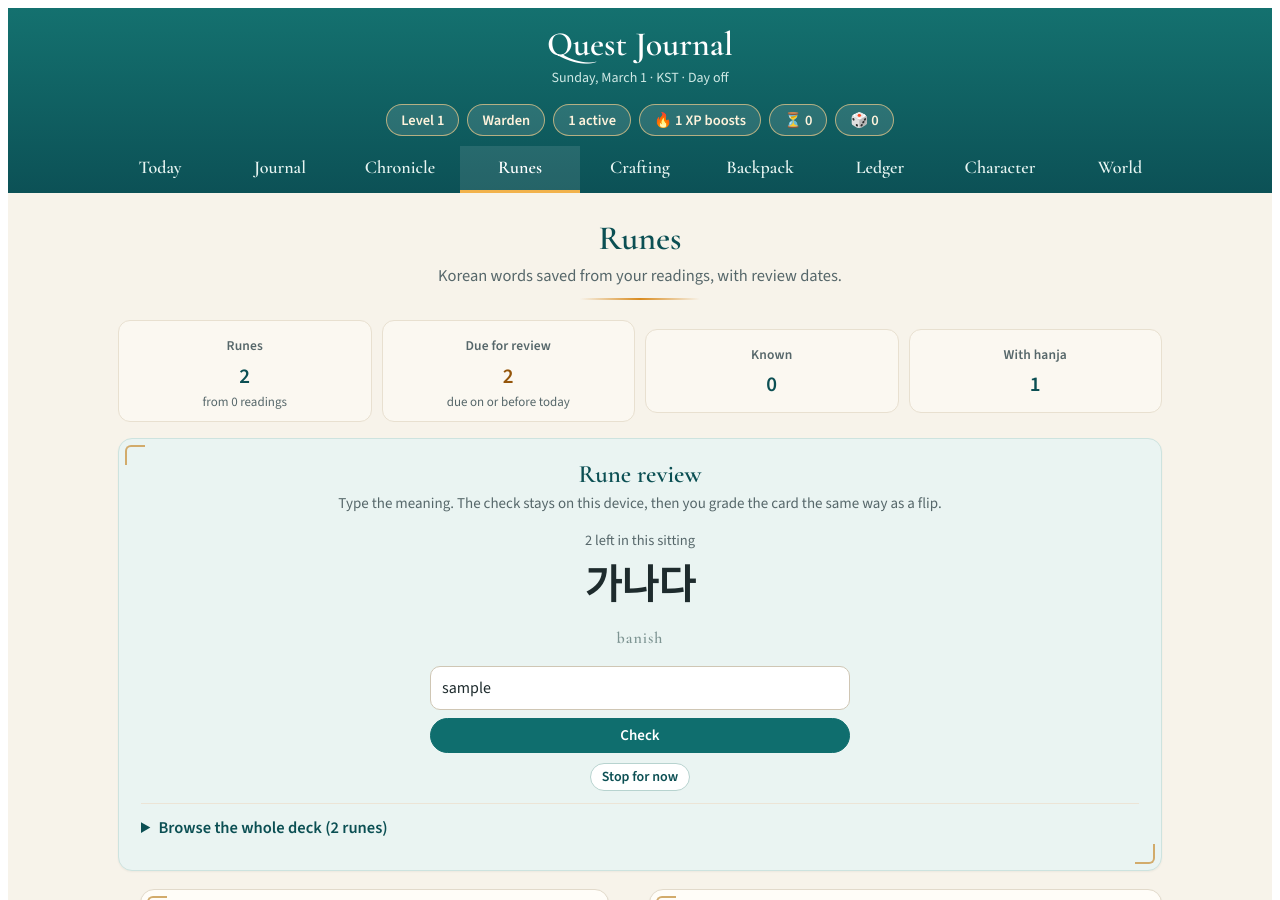
it: rune delete › drops a banished card from a type-mode sitting and still grades the next one
The width and height of the screenshot is (1280, 900).
Earlier steps of the test are not shown.
Step 1. Click the button "Check" → (640, 736), box [430,718,850,753]
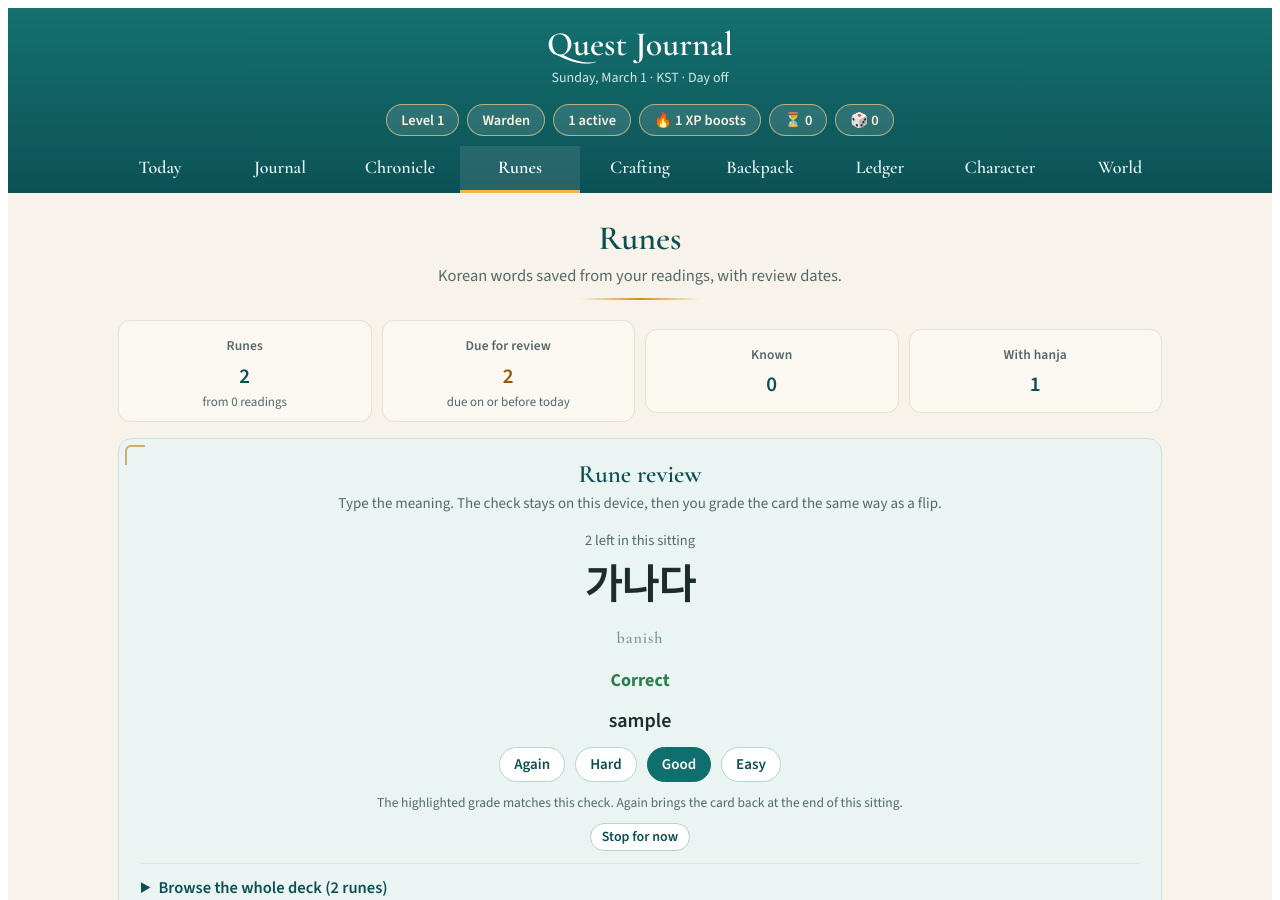
Expected: the text "Correct" is shown, [610,666,670,695]
Step 2. Click the button with aria-label "Banish 가나다" → (640, 638), box [615,620,665,656]
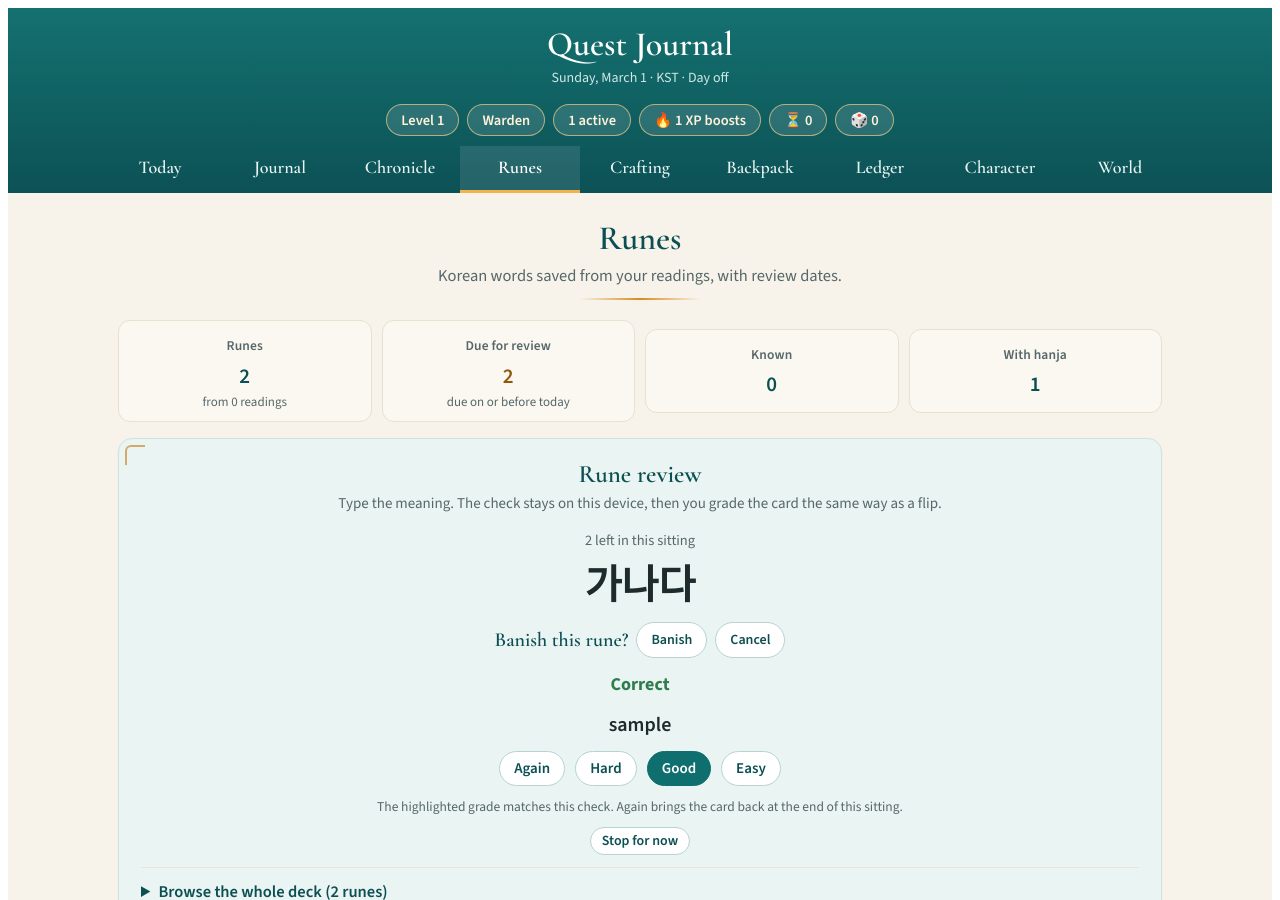
Step 3. Click the button "Banish" → (672, 640), box [636,622,707,658]
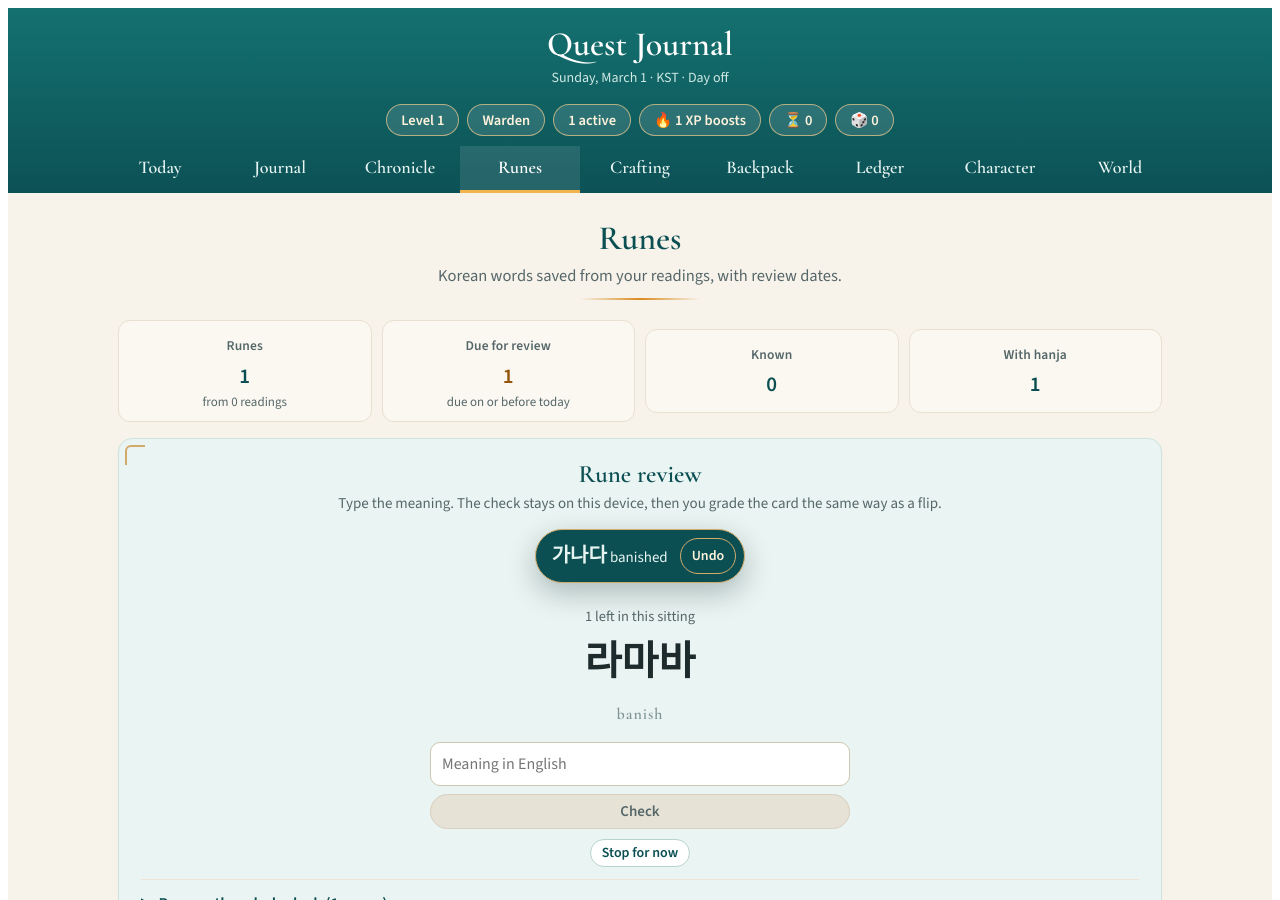
Expected: the text with class "rvword" reads "라마바", [585,635,695,688]
Expected: the text "Correct" is gone
Expected: the field named "Typed meaning" is empty
Step 4. Type "castle" into the field named "Typed meaning" → (640, 764), box [430,742,850,786]
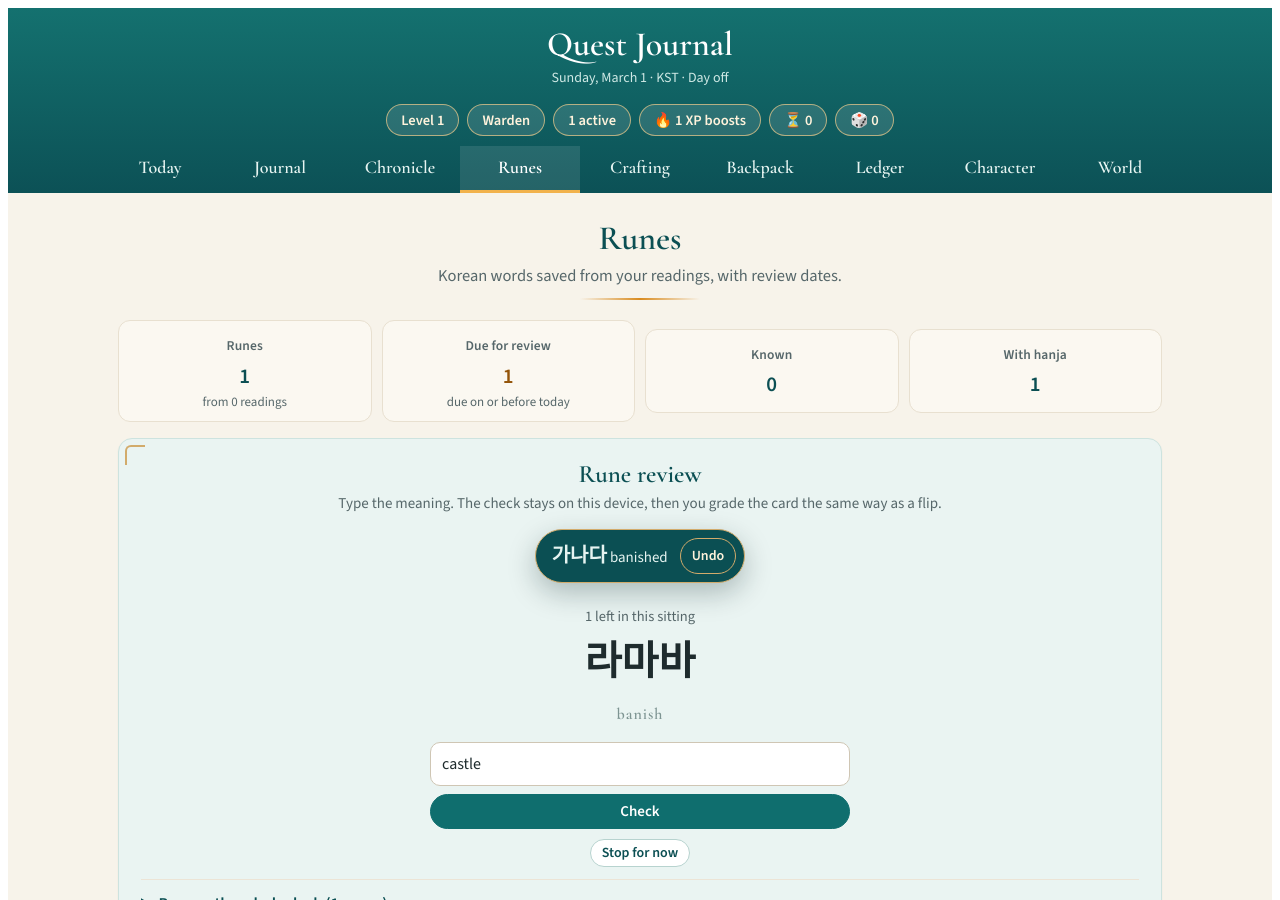
Step 5. Click the button "Check" → (640, 812), box [430,794,850,829]
(page scrolled)
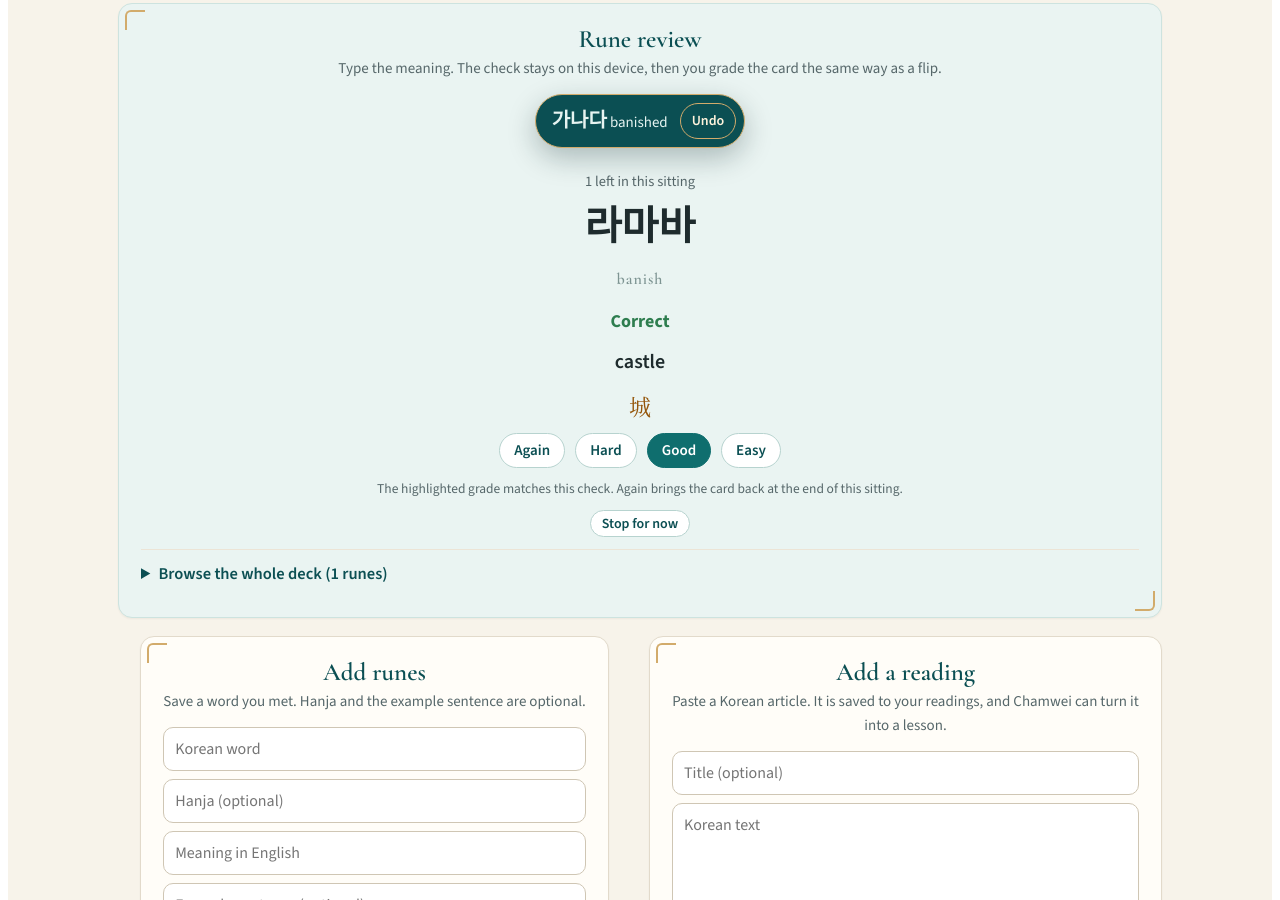
Expected: the text "Correct" is shown, [610,307,670,336]
Step 6. Click the button "Good" → (679, 450), box [647,433,711,468]
(page scrolled)
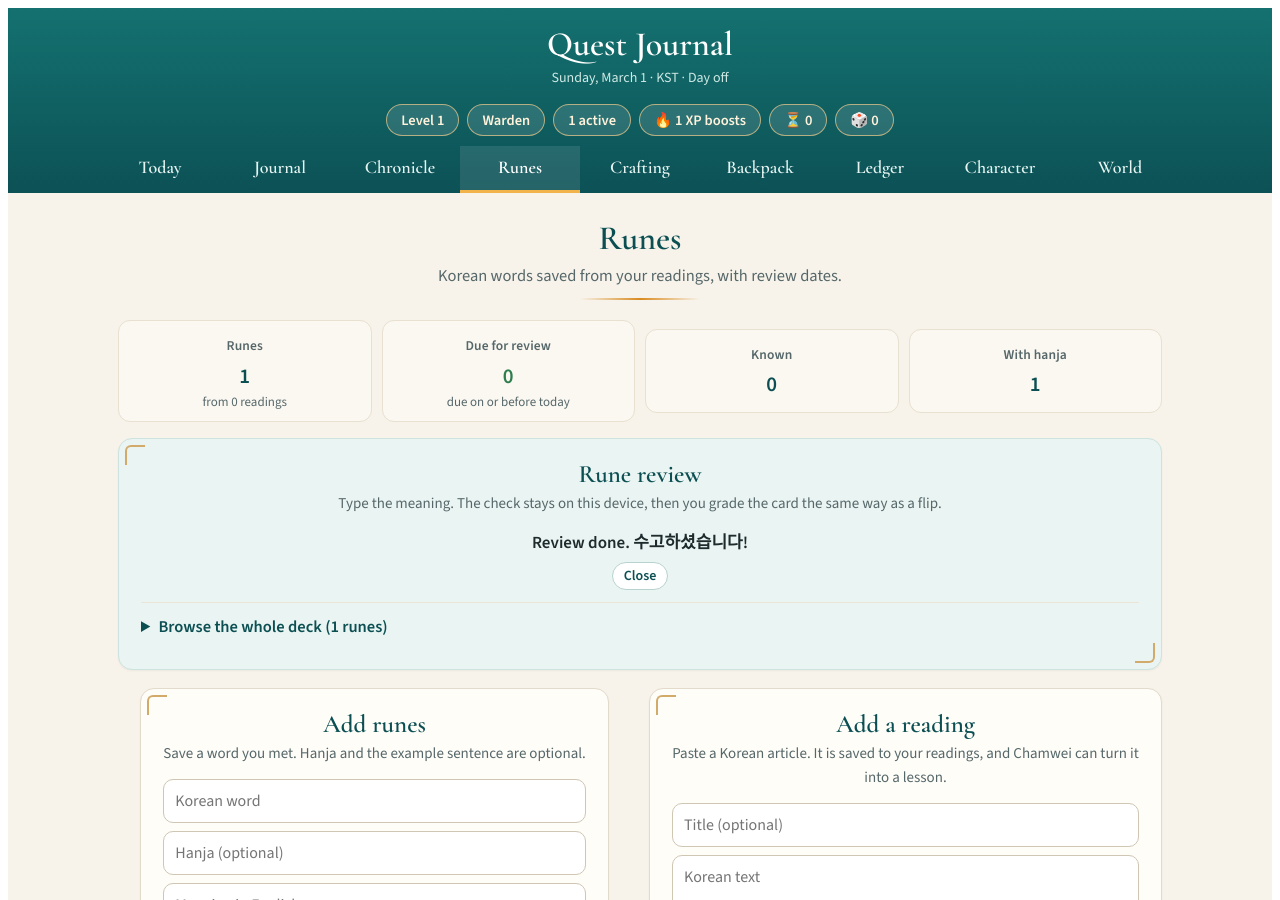
Expected: the text "Review done. 수고하셨습니다!" is shown, [532,531,748,554]
Expected: the button "Due for review 0 due on or before today" is shown, [382,320,635,422]
